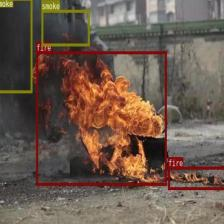fire: (36, 51, 167, 185), (168, 166, 224, 190)
smoke: (0, 0, 32, 92), (41, 9, 89, 46)
